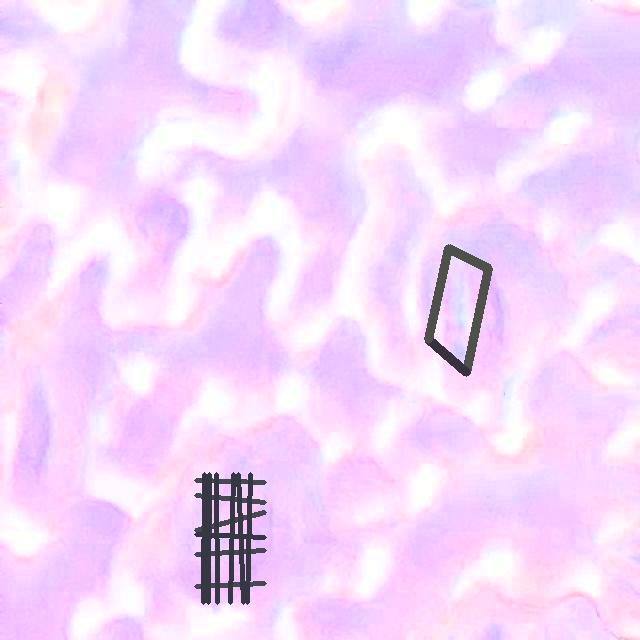open: (194, 473, 266, 604), (424, 244, 492, 375)
